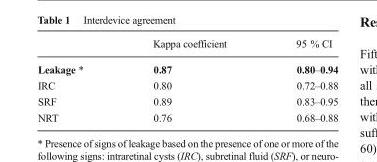table: (36, 37, 337, 122)
table column: (117, 37, 260, 122), (36, 37, 117, 122), (260, 37, 337, 122)
table column header: (36, 37, 337, 55)
table row: (36, 55, 337, 76), (36, 37, 337, 55), (36, 92, 337, 109), (36, 76, 337, 92), (36, 109, 337, 122)
